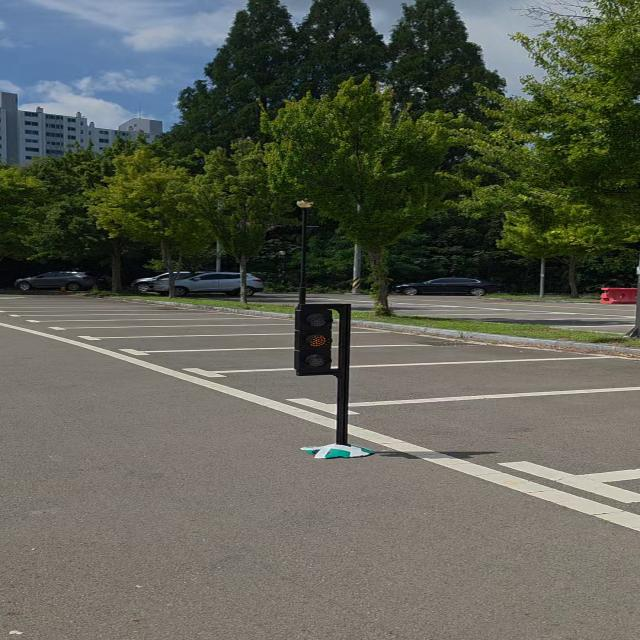yellow: (288, 302, 346, 378)
